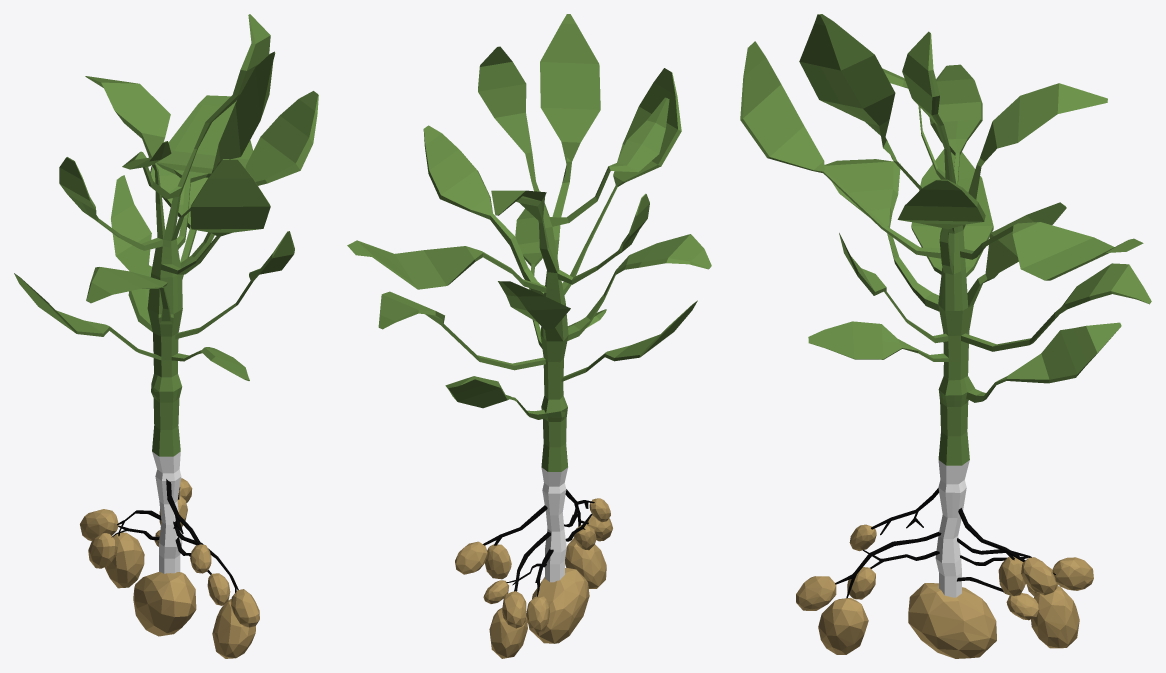
File: ziemniak_faza_3.fbx
3 views of the same model, side by side, from view 1: azimuth 30°, elevation 25°; view 2: azimuth 150°, elevation 25°; view 3: azimuth 270°, elevation 25° (orthographic). The views are drawn at different scales.
Visible parts, largest first — view 1: Sphere.001; view 2: Sphere.001; view 3: Sphere.001.
Boxes of the visible parts, x1=… form: Sphere.001: x1=14, y1=14, x2=318, y2=658; Sphere.001: x1=347, y1=14, x2=711, y2=658; Sphere.001: x1=740, y1=14, x2=1151, y2=658.
Size of the model in its own units: 19.9 by 39.67 by 22.08.
